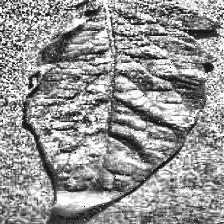spider mites: (25, 0, 216, 215)
